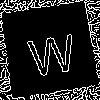W: (24, 25, 79, 78)
